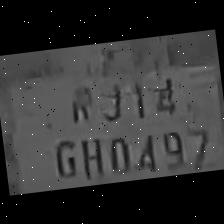0: (102, 126, 132, 176)
1: (122, 70, 148, 120)
4: (147, 69, 178, 120), (129, 124, 159, 175)
7: (182, 121, 212, 171)
9: (156, 120, 186, 170)
G: (48, 132, 80, 180)
H: (74, 130, 106, 180)
J: (91, 67, 125, 124)
R: (63, 76, 96, 128)
